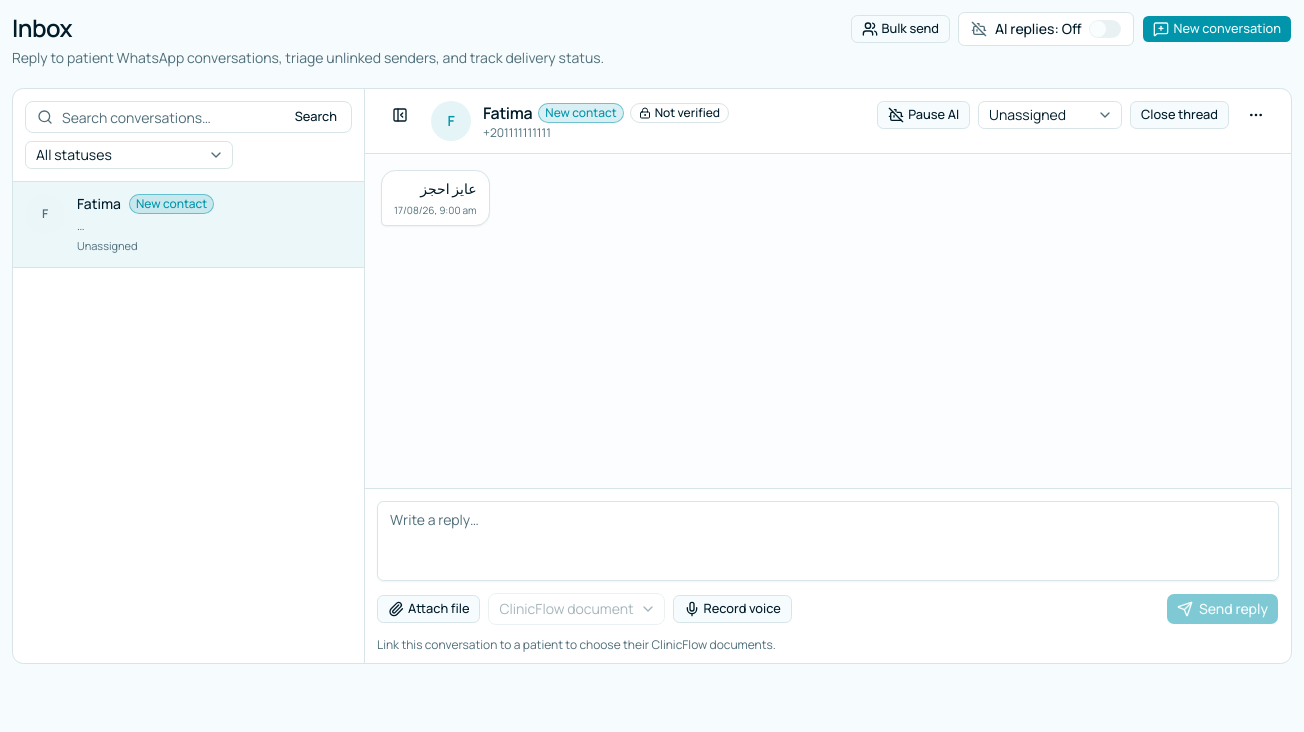
Test: P12 · past appointments from inside the thread › refuses to invent a history for an unlinked new contact
The width and height of the screenshot is (1304, 732).
Click the button with test id "conversation-more-actions" at (1256, 115), box [1237, 101, 1275, 129]
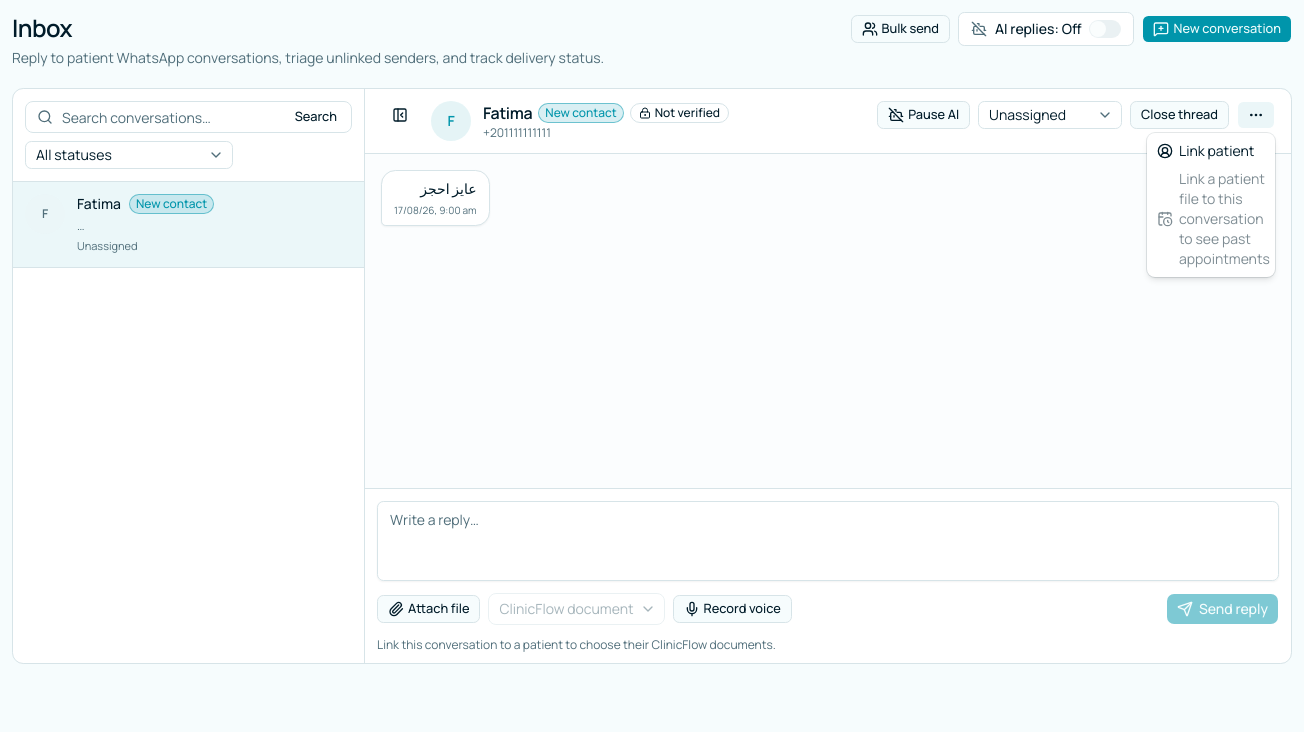
Result: the menu item with test id "past-appointments-trigger" reads "Link a patient file to this conversation to see past appointments" at [1151, 165, 1271, 273]
